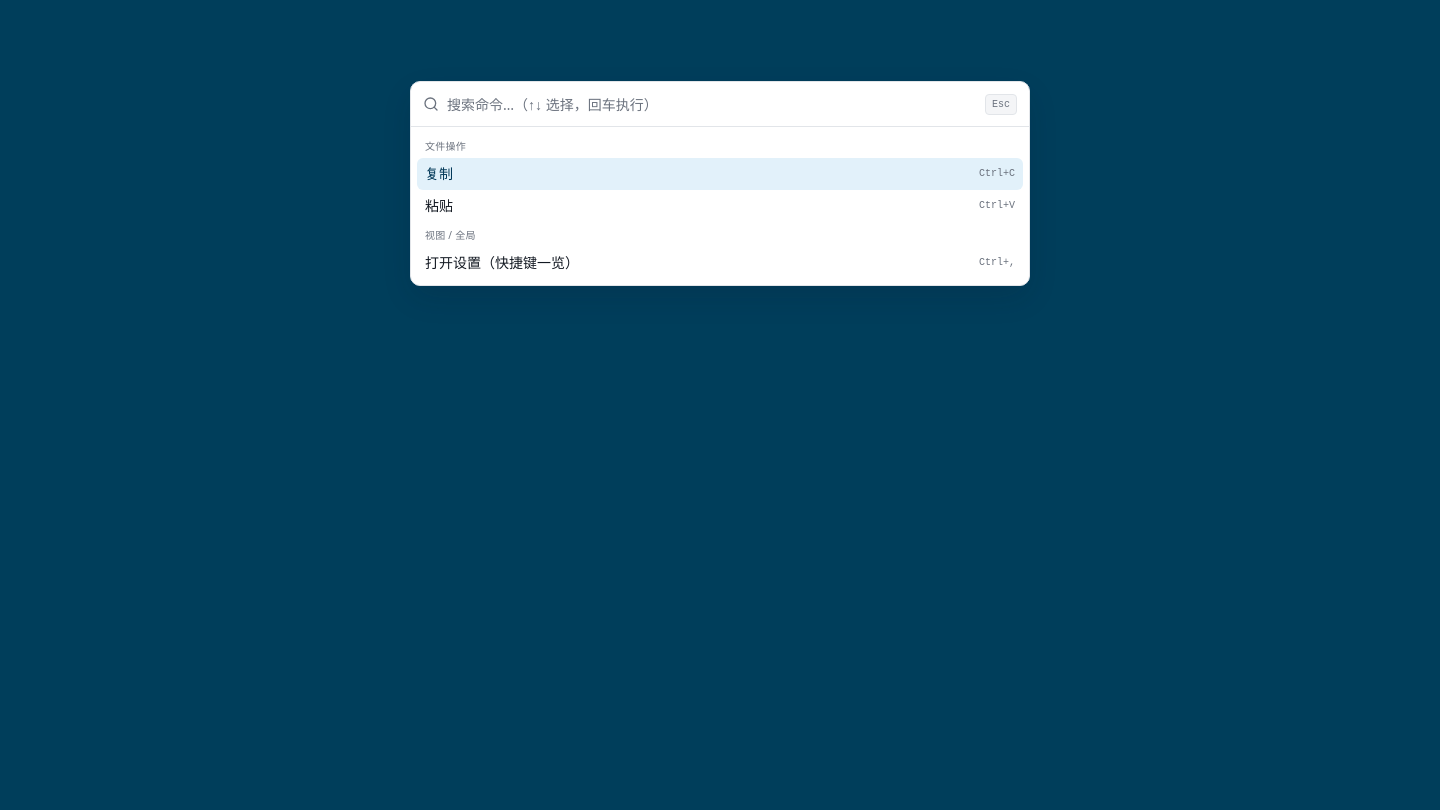
CommandPalette 命令面板 › 输入关键字过滤列表
Type "粘贴" into the field with placeholder "搜索命令…（↑↓ 选择，回车执行）" at (712, 104), box 447,92 -> 977,116
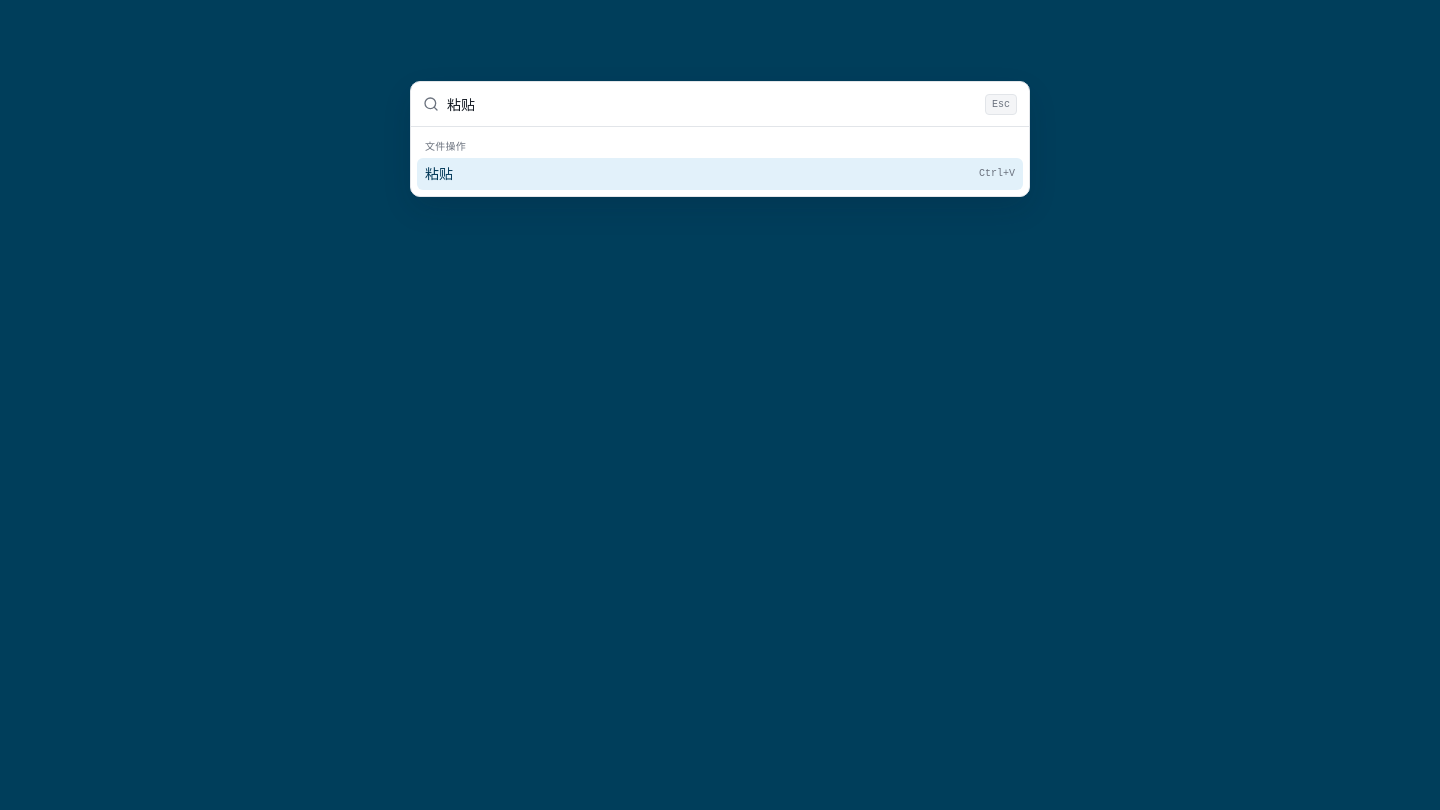
Expected: the text "粘贴" is shown, 425,164 -> 453,184
Now the button "复制" is gone
Now the button "打开设置（快捷键一览）" is gone
